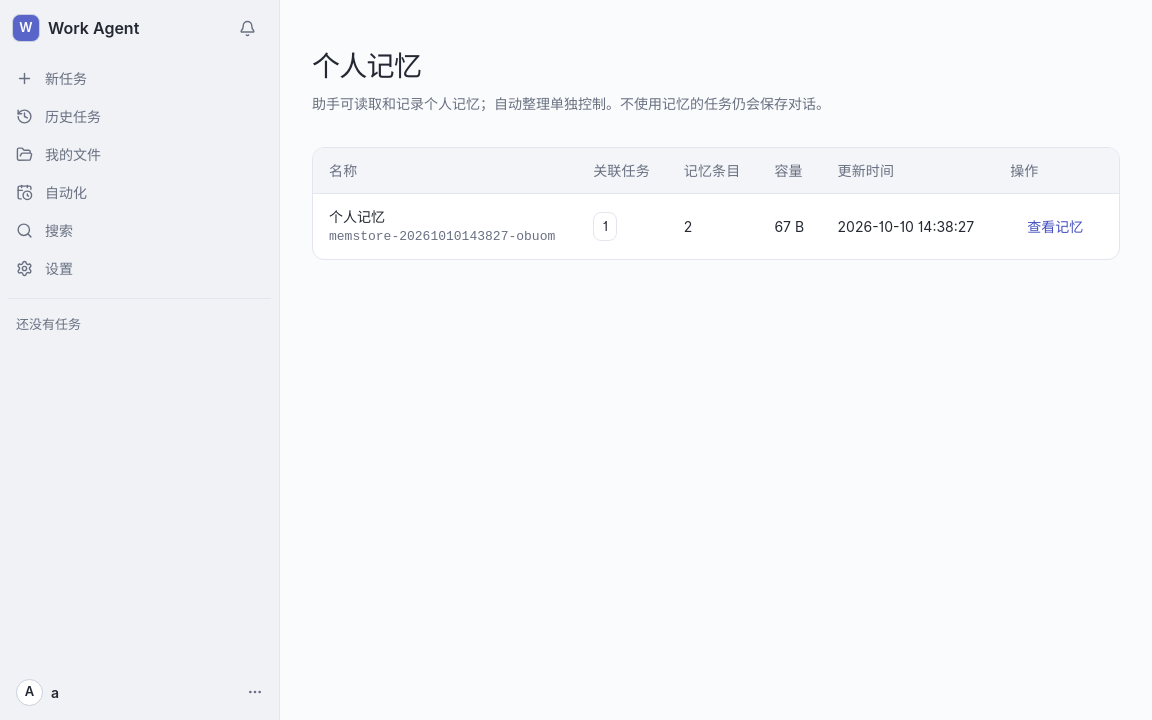
MemoryPage › shows quarantine as requiring verification without polling or claiming automatic processing
Click the button "查看记忆" at (1055, 227), box x1=1010 y1=207 x2=1100 y2=247
Wait 6000 ms
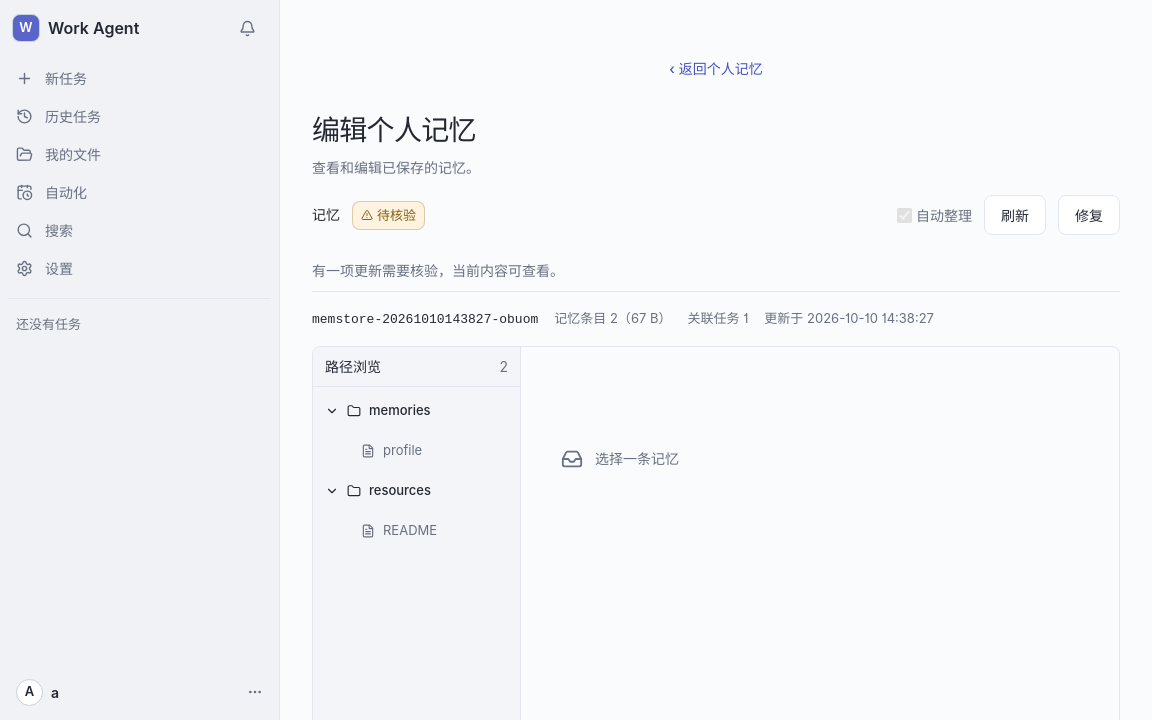
Expected: the text "路径浏览" is shown, x1=325 y1=355 x2=381 y2=378
Expected: the text "待核验" is shown, x1=377 y1=206 x2=416 y2=225
Expected: the button "修复" is enabled, x1=1058 y1=196 x2=1120 y2=236
Click the button with aria-label "profile.md" at (416, 451), box x1=317 y1=431 x2=516 y2=471
(page scrolled)
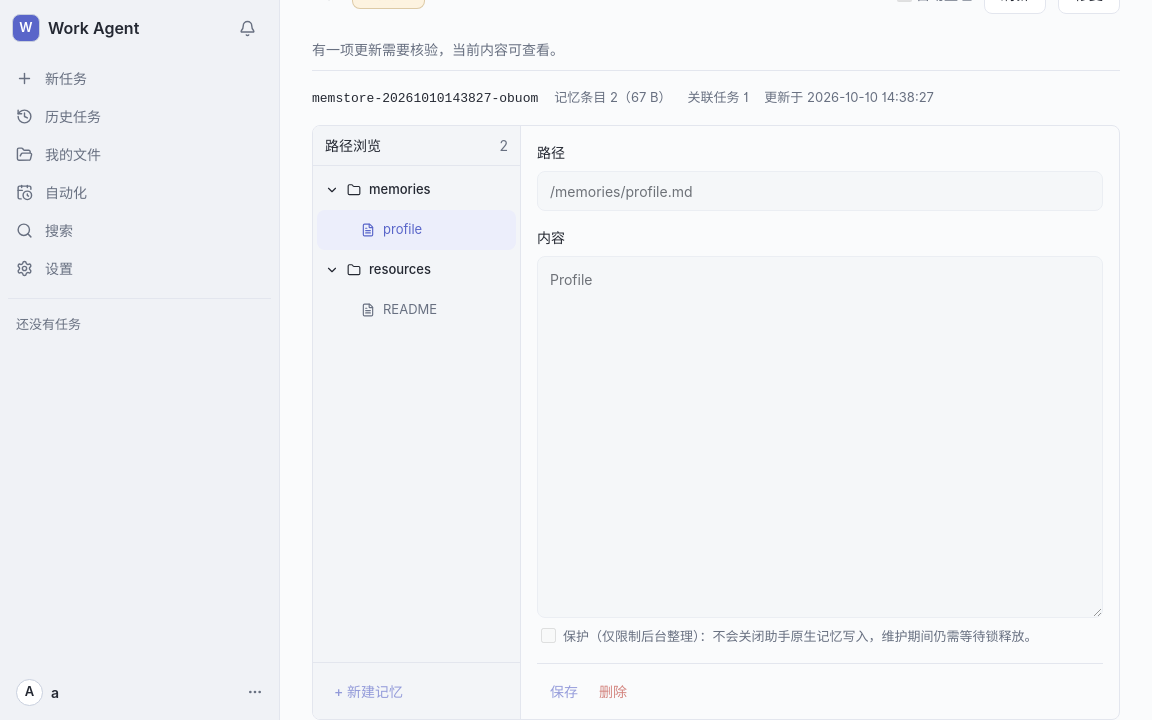
Expected: the text box labelled "内容" is disabled, x1=537 y1=256 x2=1103 y2=618
